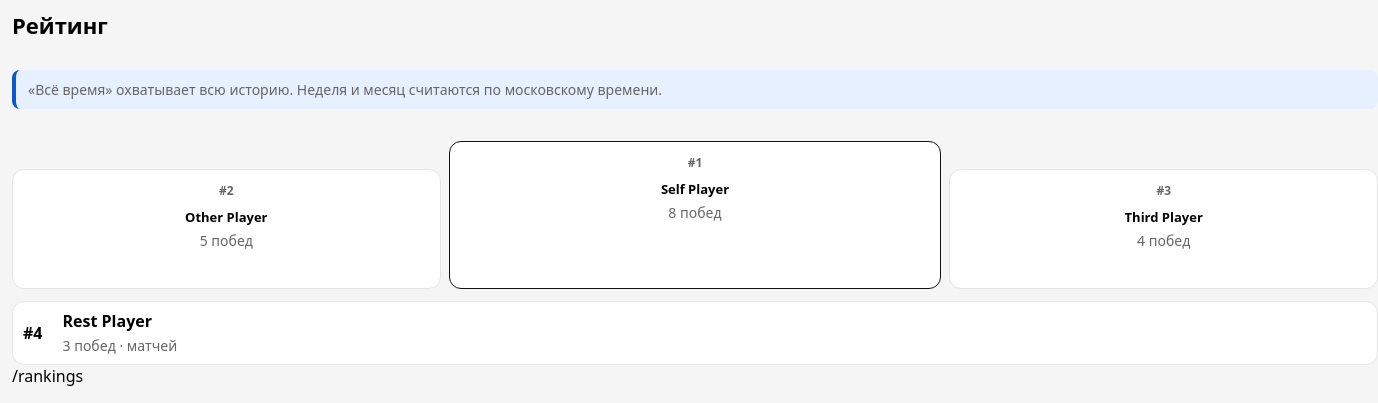
Test case: BUG-010 ranking challenge guard › RANK-005 opens a public card from every ranking row without Challenge
Expected: the element showing "#4 Rest Player 3 побед · матчей" is shown, [12,300,1377,364]
What coordinates should you click on to do the following:
click the link "#4 Rest Player 3 побед · матчей"
I would click on:
 (100, 332)
Its box is [23,310,177,355].
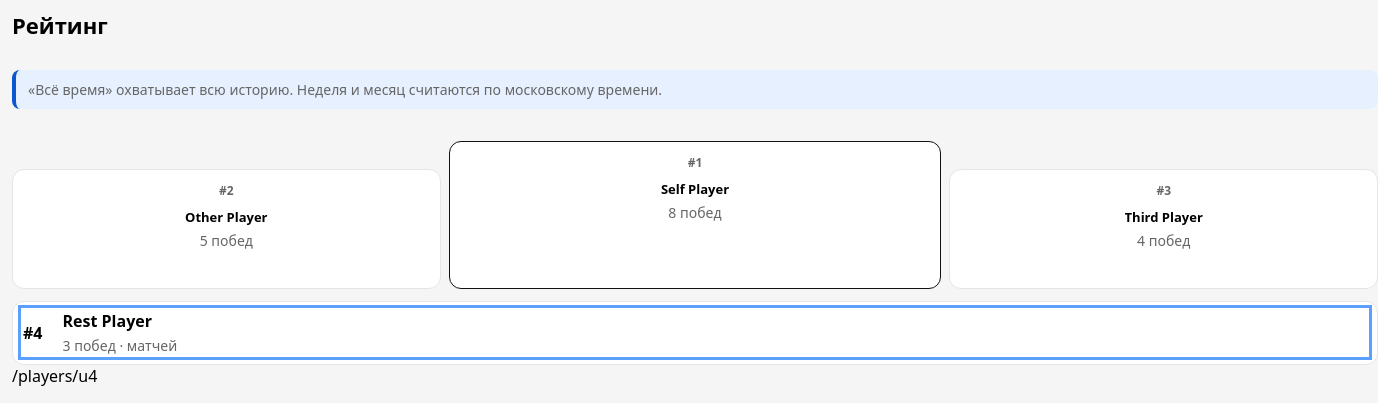
Expected: the text named "location" reads "/players/u4", [12,364,97,386]
